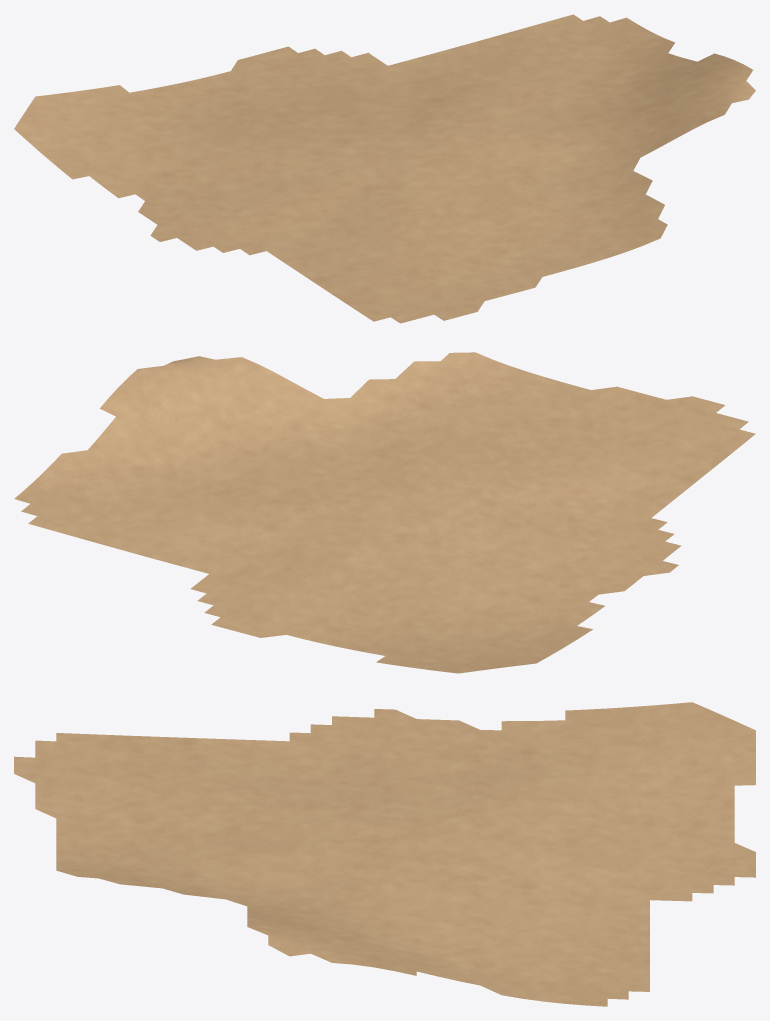
The model's file is sand_light_0.dae.
3 renders of one model, top to bottom at view 1: azimuth 30°, elevation 25°; view 2: azimuth 150°, elevation 25°; view 3: azimuth 270°, elevation 25°, orthographic. The views are drawn at different scales.
Parts seen in each view (by area): view 1: sand_light_0; view 2: sand_light_0; view 3: sand_light_0.
Part boxes in pixels (left/top/right/bottom): sand_light_0: left=14, top=14, right=755, bottom=323; sand_light_0: left=14, top=352, right=755, bottom=673; sand_light_0: left=14, top=702, right=755, bottom=1006.
Bounding box in the file's own units: 8.5 × 8.75 × 0.7785.
Materials: 1 (1 with a texture image).
